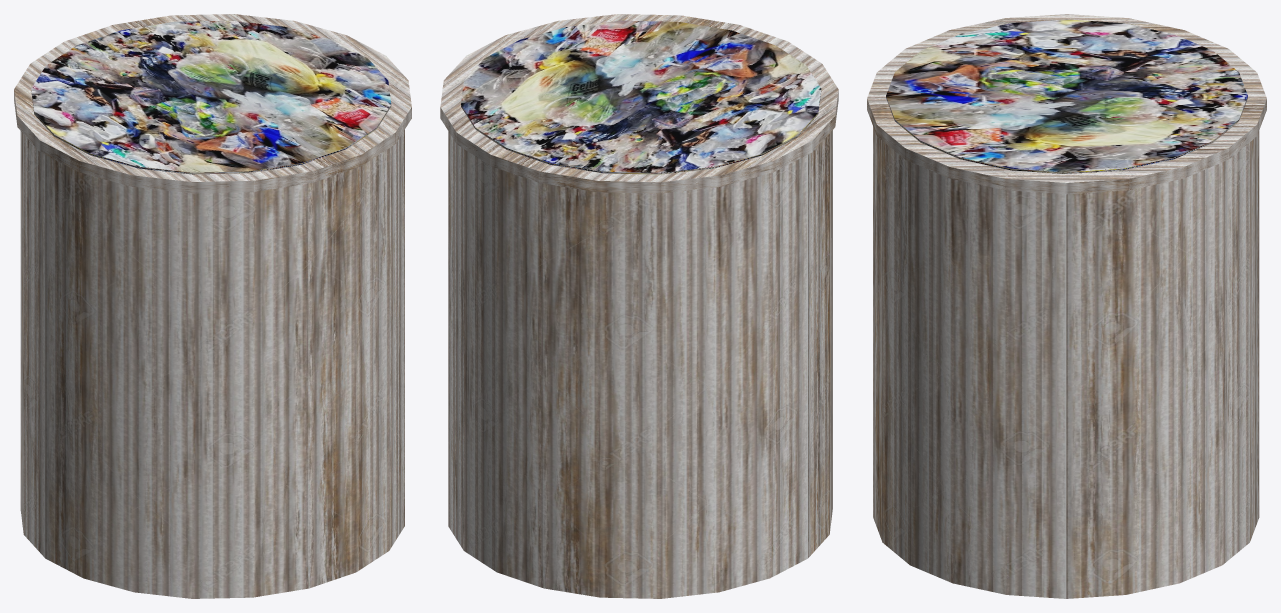
The model's file is Trashcan1.fbx.
3 renders of one model, left to right at view 1: azimuth 30°, elevation 25°; view 2: azimuth 150°, elevation 25°; view 3: azimuth 270°, elevation 25°, orthographic.
Visible parts, largest first — view 1: Cylinder, Cylinder__1_, Cylinder__2_; view 2: Cylinder, Cylinder__1_, Cylinder__2_; view 3: Cylinder, Cylinder__1_, Cylinder__2_.
Boxes of the visible parts, x1,y1,x2,y2 form: Cylinder: (20,130,404,598); Cylinder__1_: (31,20,391,174); Cylinder__2_: (14,14,411,193); Cylinder: (448,130,832,598); Cylinder__1_: (461,20,821,174); Cylinder__2_: (440,14,838,193); Cylinder: (873,126,1259,598); Cylinder__1_: (886,19,1247,173); Cylinder__2_: (867,14,1266,194).
Bounding box in the file's own units: 104 × 120 × 104.
